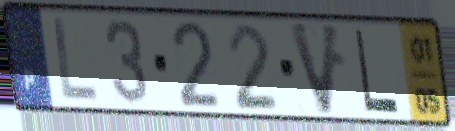2: (226, 20, 281, 112), (169, 18, 222, 110)
3: (103, 15, 151, 108)
L: (50, 14, 100, 106), (352, 26, 402, 117)
V: (285, 18, 345, 119)
